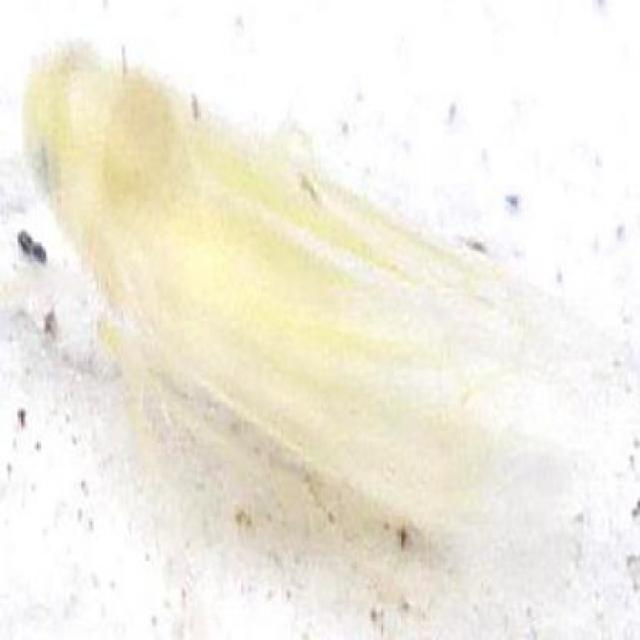green-leafhopper: (26, 35, 543, 552)
